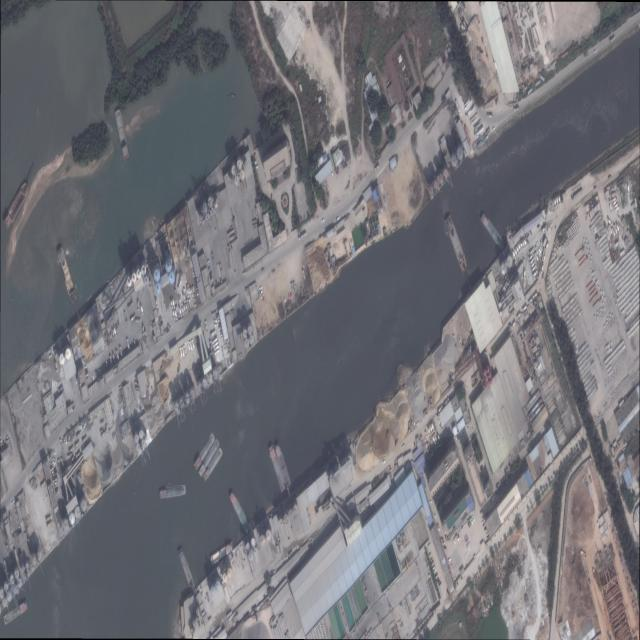ship: (445, 214, 468, 274), (56, 245, 78, 305), (3, 180, 29, 230), (481, 212, 505, 252), (229, 490, 250, 535), (268, 443, 286, 494), (198, 438, 220, 478), (194, 432, 215, 472), (178, 547, 196, 593), (274, 441, 291, 488), (115, 109, 129, 162), (203, 446, 223, 483), (3, 600, 28, 625), (210, 541, 234, 566), (160, 484, 186, 499), (229, 95, 235, 99)
small-vehicle: (51, 472, 55, 478), (53, 448, 56, 456), (83, 421, 86, 429), (259, 285, 263, 291), (260, 289, 263, 297), (75, 378, 78, 386), (18, 523, 21, 530), (290, 291, 293, 298), (262, 296, 265, 303), (63, 439, 66, 446), (92, 374, 95, 381), (97, 368, 100, 375), (593, 49, 597, 54), (54, 484, 58, 489), (213, 318, 217, 323), (11, 500, 15, 505), (50, 467, 54, 472), (51, 460, 55, 465), (336, 216, 340, 221), (272, 269, 276, 274), (56, 490, 59, 496), (55, 485, 58, 491), (217, 315, 220, 321), (209, 270, 212, 276), (492, 126, 495, 132), (215, 279, 218, 285), (207, 259, 210, 265), (283, 296, 286, 302), (261, 294, 264, 300), (207, 266, 211, 270), (84, 365, 88, 369), (85, 373, 89, 377), (54, 481, 57, 486), (51, 471, 54, 476), (220, 333, 223, 338), (322, 218, 325, 223), (86, 375, 89, 380), (288, 293, 290, 300), (95, 371, 97, 378), (99, 367, 101, 374), (106, 361, 108, 368), (214, 324, 218, 327), (85, 367, 88, 371), (85, 370, 88, 374), (211, 278, 213, 283), (79, 423, 80, 431), (66, 438, 67, 446), (81, 422, 82, 429)
storage-tank: (165, 259, 172, 272), (154, 269, 160, 282), (457, 147, 463, 160), (507, 256, 513, 269), (260, 535, 266, 547), (208, 196, 214, 208), (81, 500, 87, 512), (75, 507, 81, 519), (69, 513, 75, 525), (155, 283, 161, 295), (451, 155, 457, 167), (501, 263, 507, 275), (169, 273, 175, 284), (63, 520, 69, 531), (65, 349, 71, 360), (59, 354, 65, 365), (227, 568, 233, 578), (266, 530, 271, 542), (136, 269, 142, 279), (234, 176, 240, 186), (185, 394, 190, 405), (213, 370, 218, 381), (190, 390, 195, 401), (293, 505, 298, 516), (232, 165, 237, 176), (175, 403, 180, 413), (223, 573, 228, 583), (211, 586, 216, 596), (203, 203, 208, 213), (288, 510, 293, 520), (251, 538, 256, 548), (37, 551, 42, 561), (10, 575, 15, 585), (7, 592, 12, 602), (132, 273, 137, 283), (127, 277, 132, 287), (139, 430, 144, 440), (2, 598, 7, 608), (240, 171, 245, 181), (237, 160, 242, 170), (216, 581, 221, 590), (283, 515, 288, 524), (210, 208, 215, 217), (205, 214, 210, 223), (17, 579, 22, 588), (4, 584, 9, 593), (141, 440, 146, 449), (243, 330, 248, 339), (244, 339, 249, 348), (249, 336, 254, 345), (429, 186, 434, 195), (203, 379, 207, 389), (198, 383, 202, 393), (279, 519, 283, 529), (15, 569, 19, 579), (142, 265, 146, 275), (135, 434, 139, 444), (248, 326, 252, 336), (444, 169, 448, 179), (209, 374, 213, 383), (180, 397, 184, 406), (33, 557, 37, 566), (145, 277, 149, 286), (0, 590, 4, 599), (434, 181, 438, 190), (218, 365, 222, 373), (246, 542, 250, 550), (24, 573, 28, 581), (137, 444, 141, 452), (439, 175, 443, 183), (486, 367, 490, 373), (483, 370, 487, 376), (22, 566, 25, 573), (26, 563, 29, 570), (485, 376, 488, 382), (488, 373, 491, 379), (487, 381, 490, 387), (490, 378, 492, 384)
